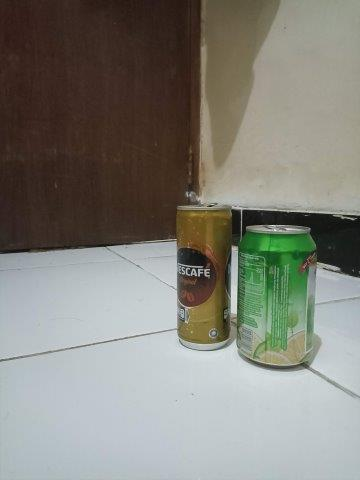kaleng: (237, 224, 318, 369), (176, 202, 232, 352)
